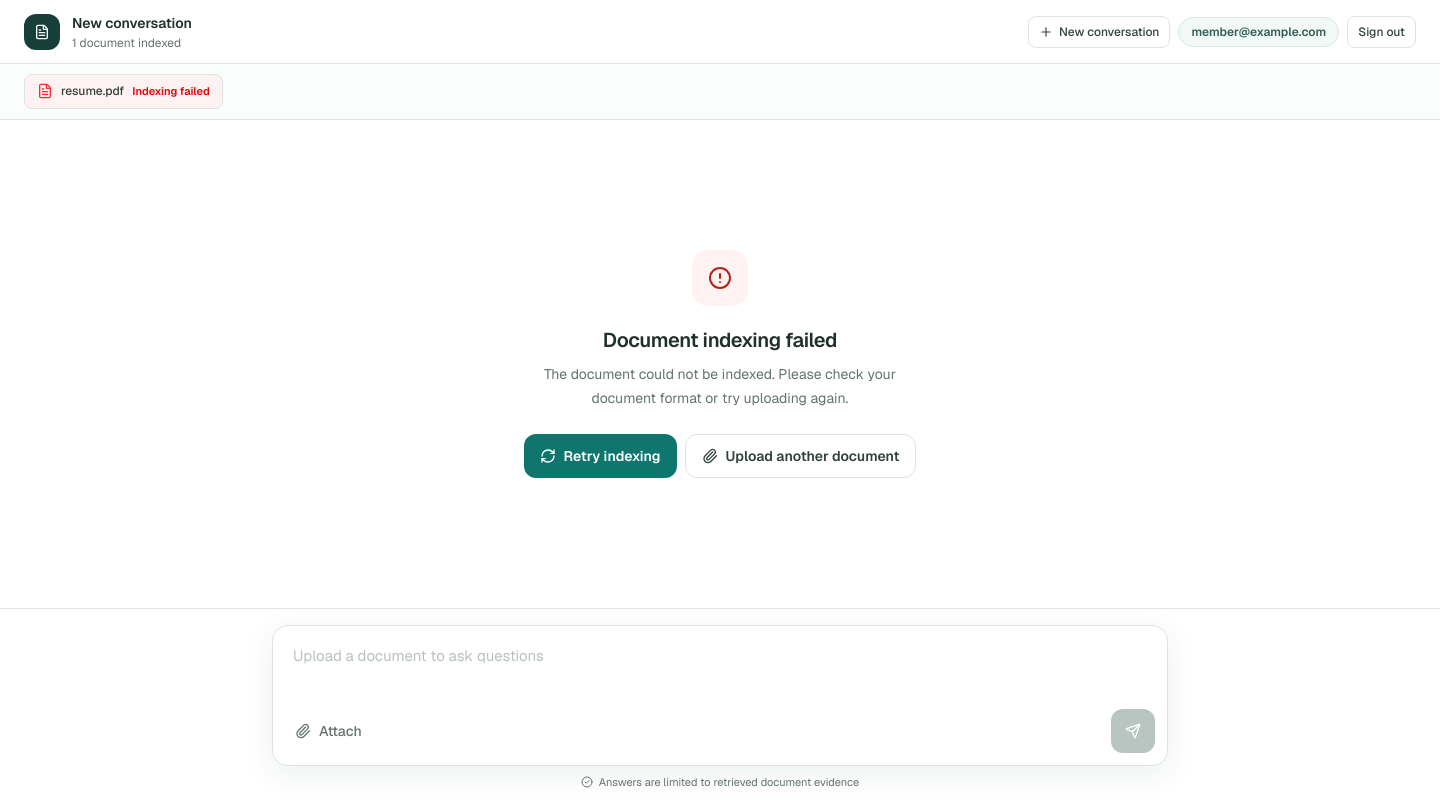
Test case: guest ChatApp › retries a recoverable failed document instead of requiring another upload
The width and height of the screenshot is (1440, 810).
Click the button "Retry indexing": click(600, 456) [524,434,676,478]
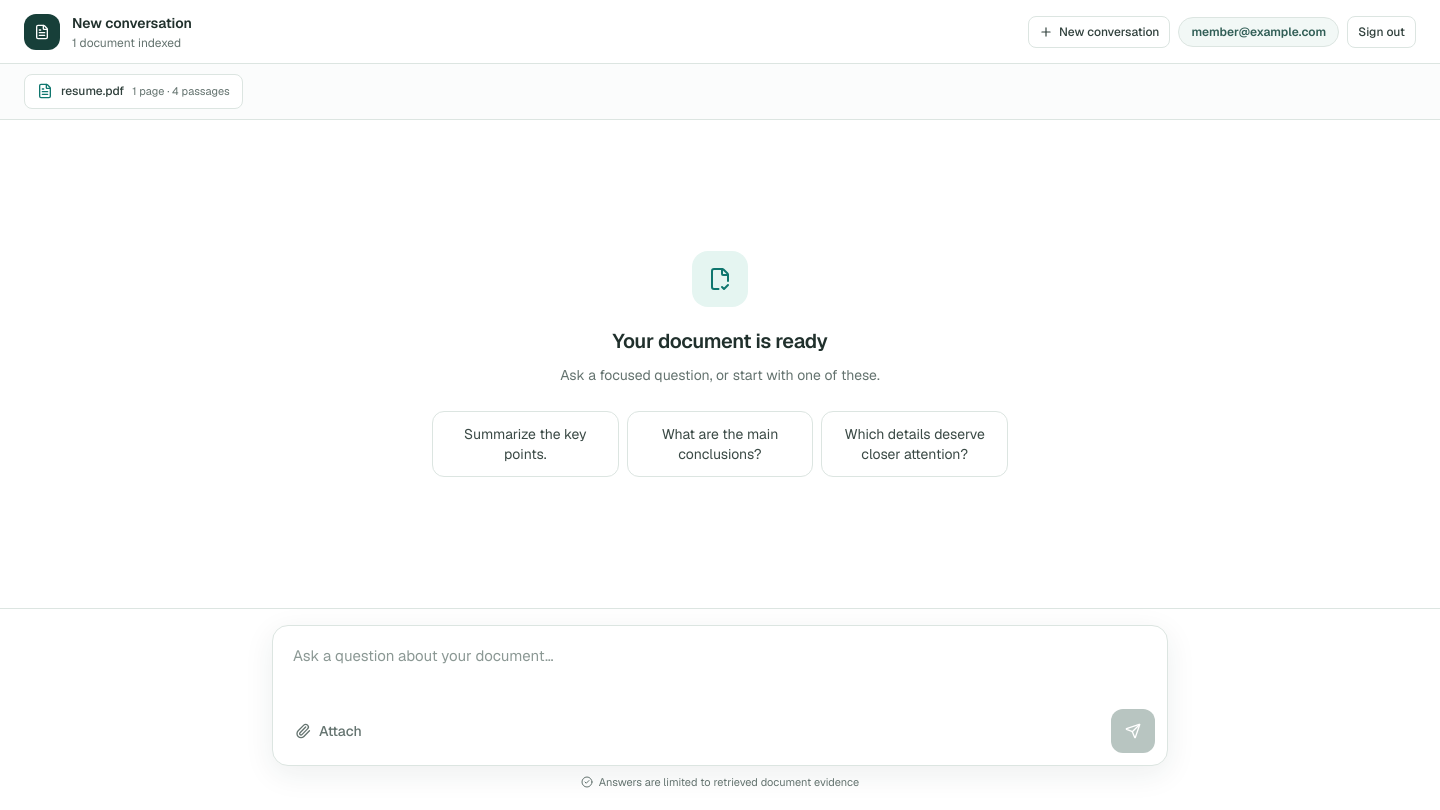
Check: the heading "Your document is ready" is shown, box [612,328,828,354]
